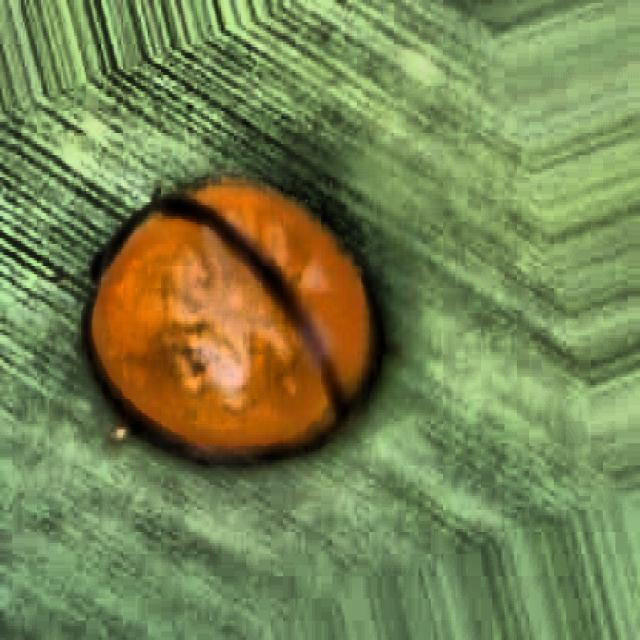Ladybug: (52, 104, 427, 512)
